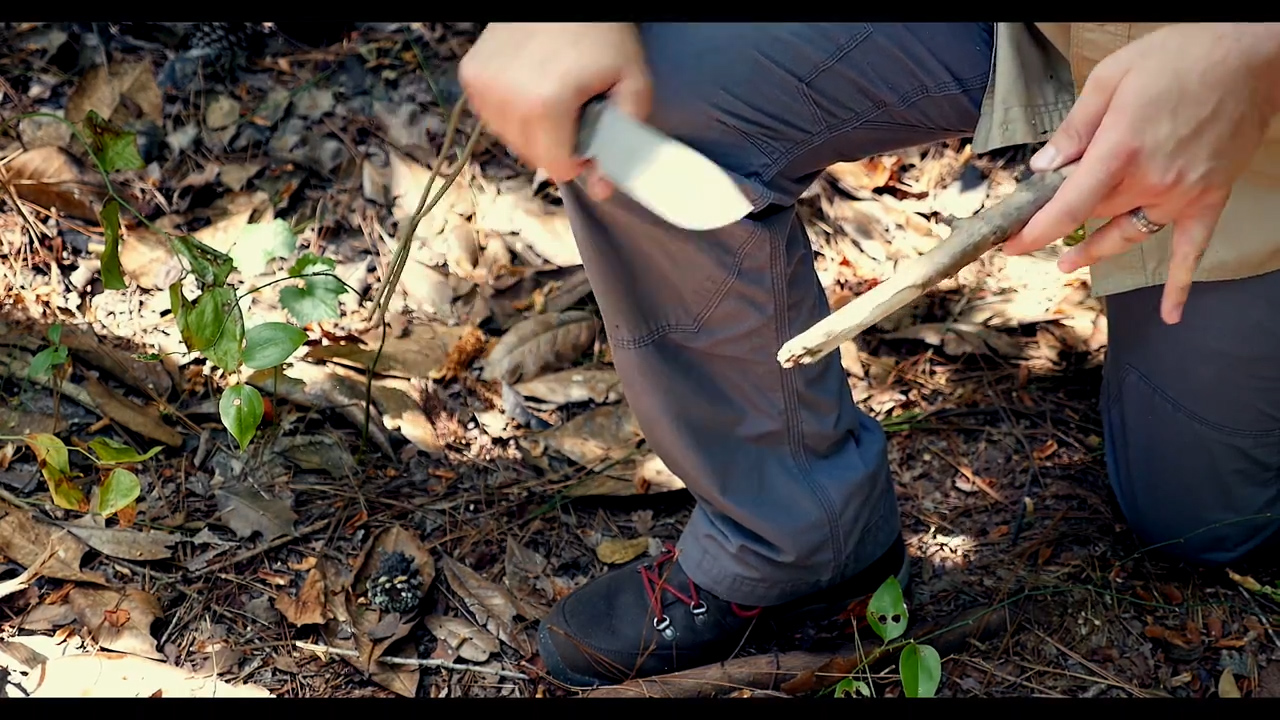knife: (501, 65, 765, 243)
